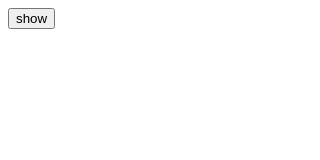
Scenario: <Togglable /> › children are displayed after clicking the show button
The width and height of the screenshot is (320, 160).
Click the button "show": (32, 18) [8,8,55,29]
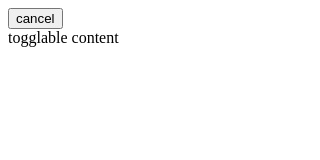
Expected: the text "togglable content" is shown, [8,29,119,46]
